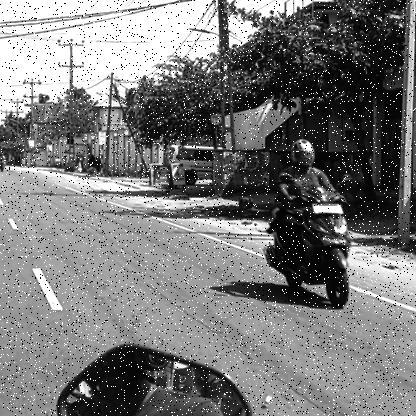motorcycle: (259, 184, 366, 314)
